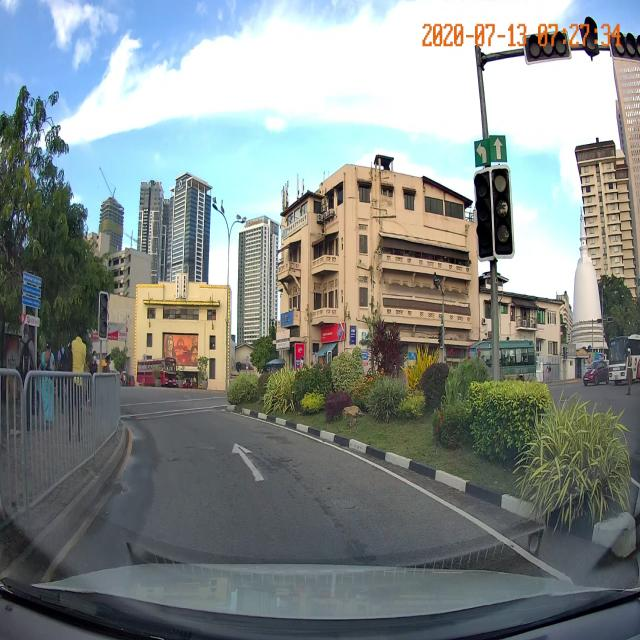Strelka vpered: (230, 440, 270, 484)
